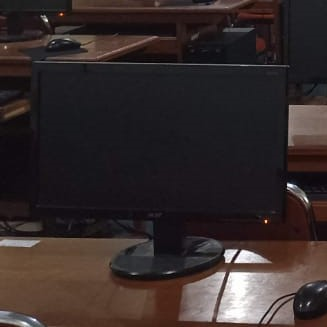monitor: (27, 62, 290, 223), (282, 0, 327, 88), (0, 0, 72, 42)
